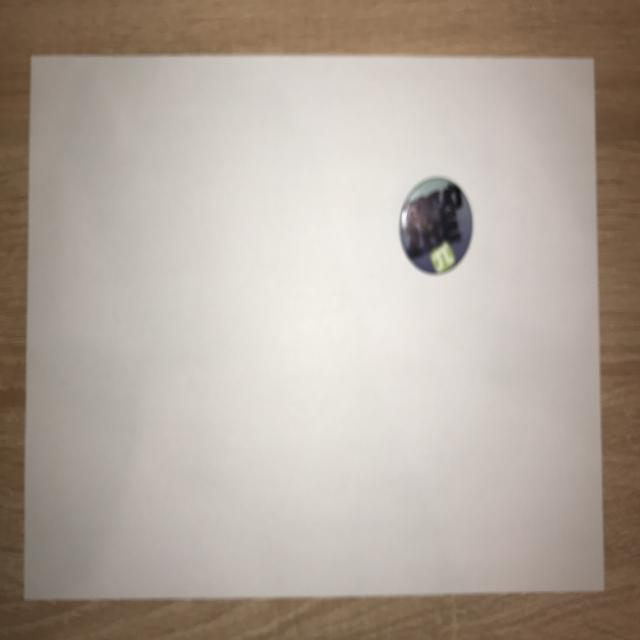icon: (394, 170, 478, 281)
